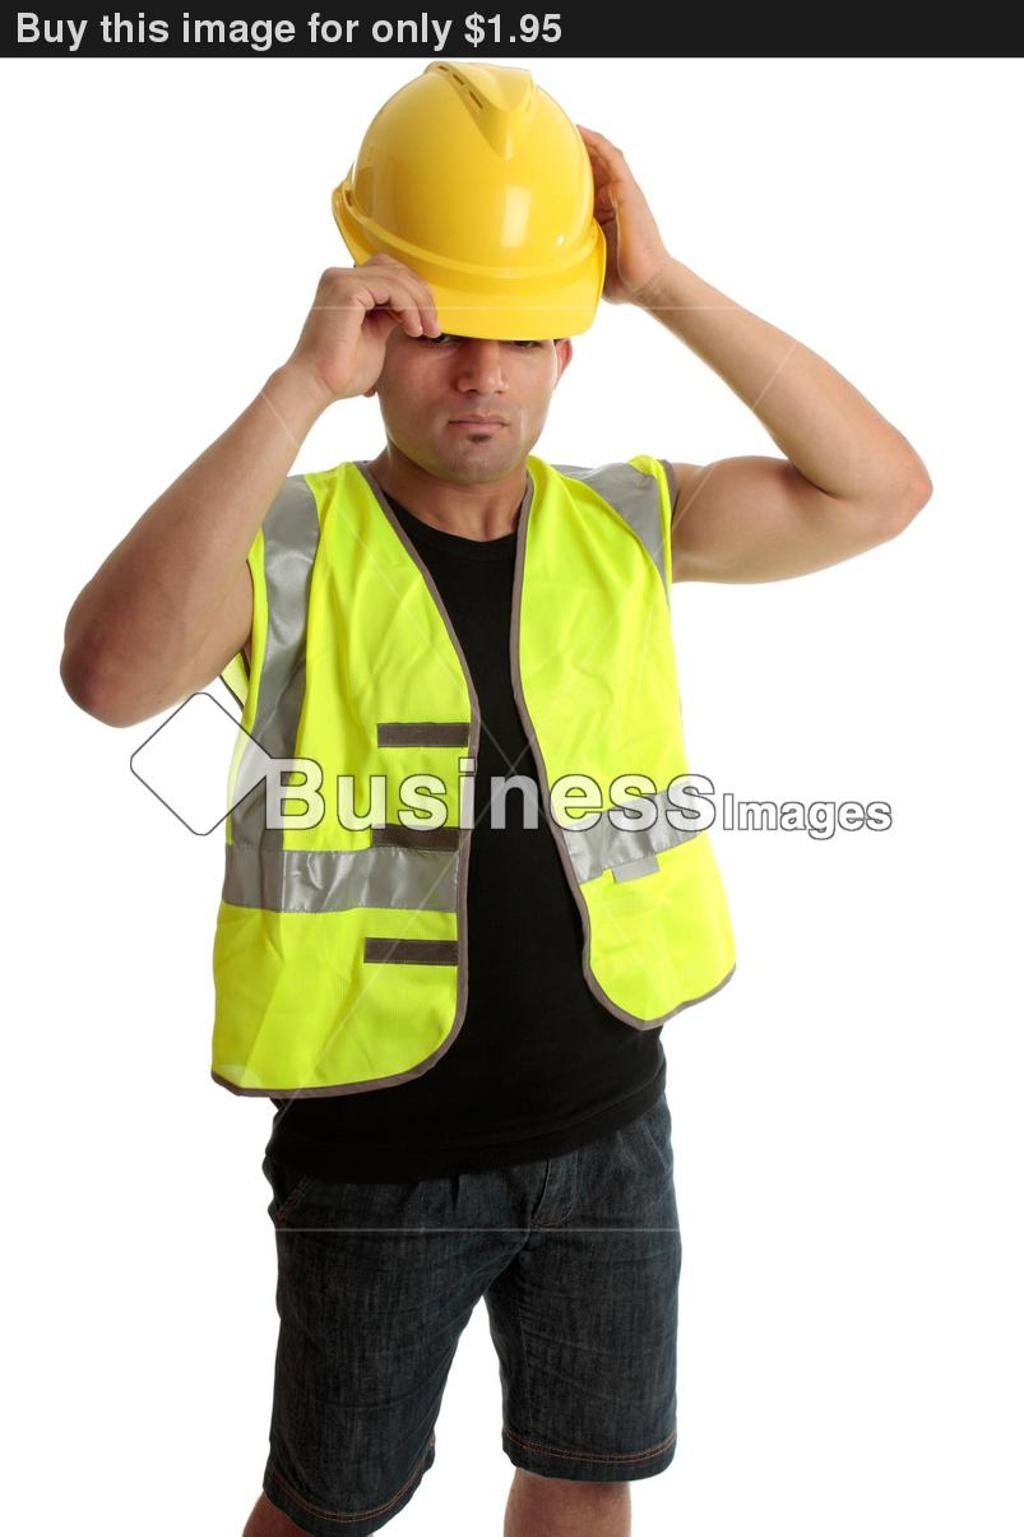face: (381, 234, 549, 471)
